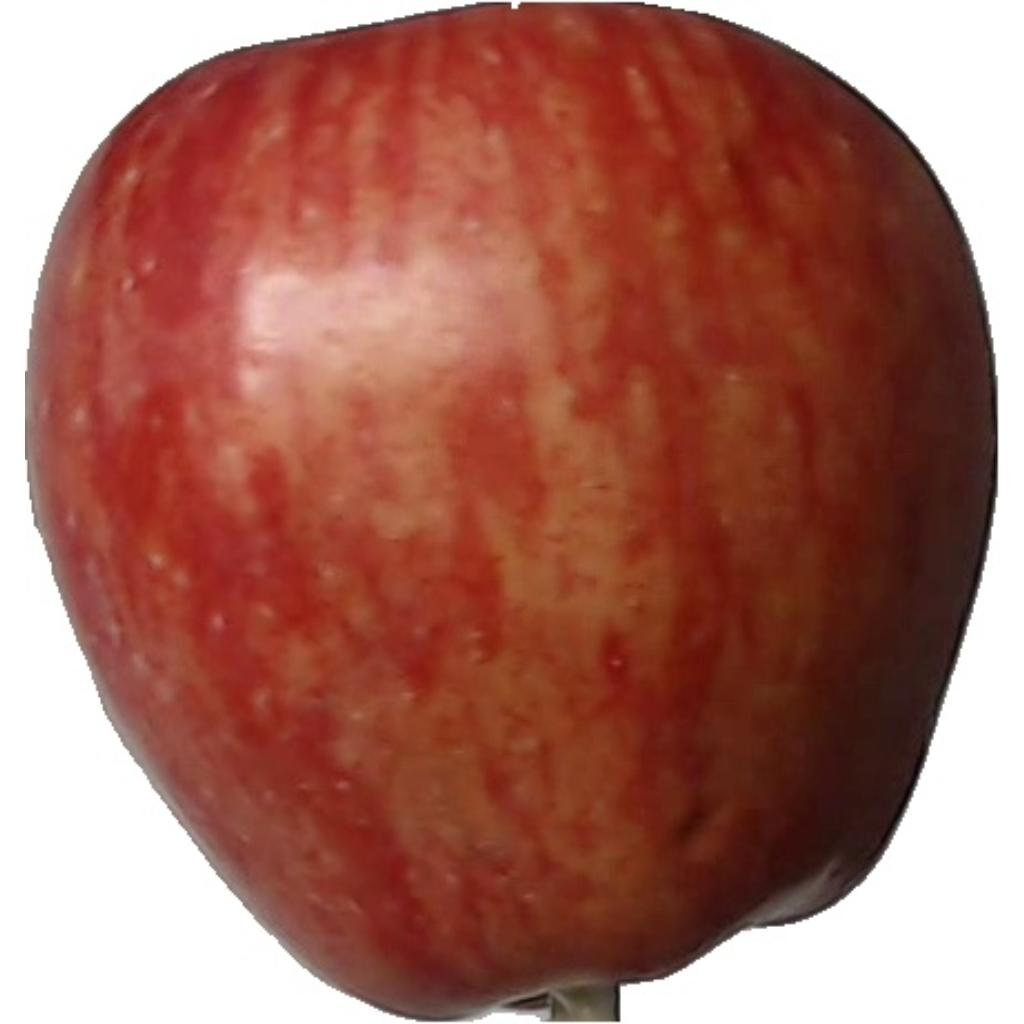apple: (24, 2, 999, 1024)
